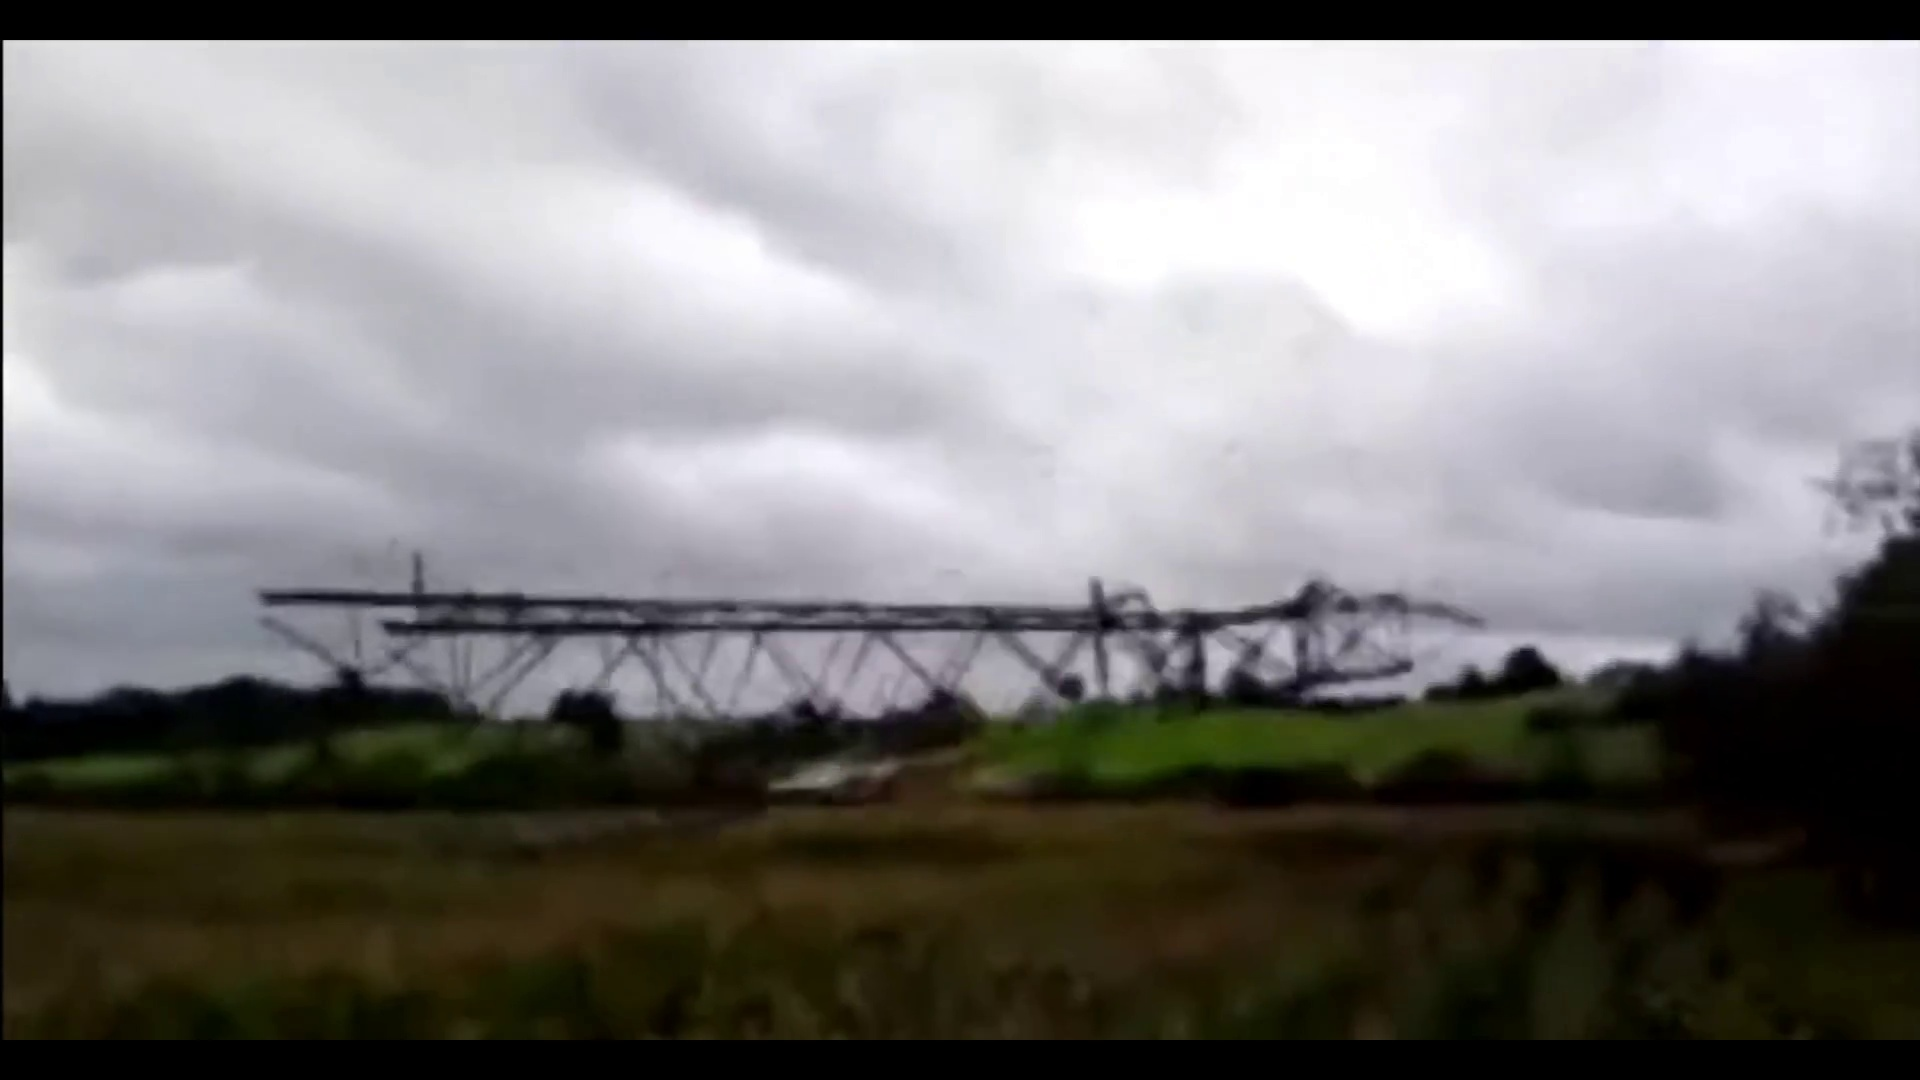tower_down: (258, 517, 1539, 773)
